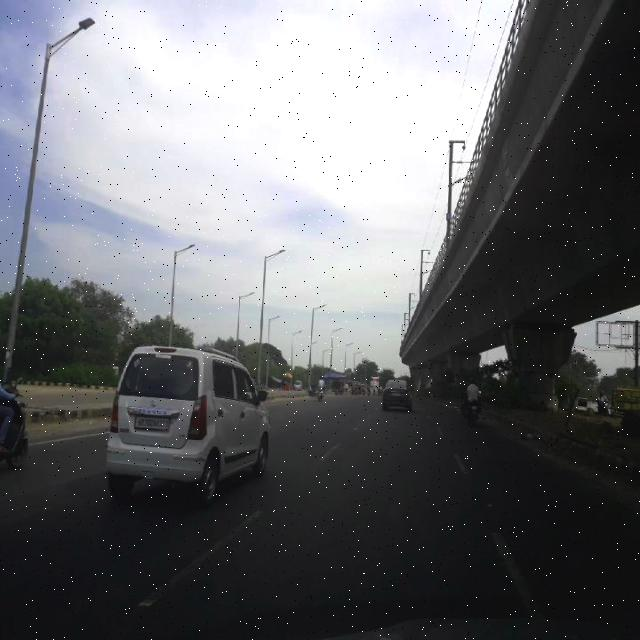D44: (138, 509, 261, 607)
